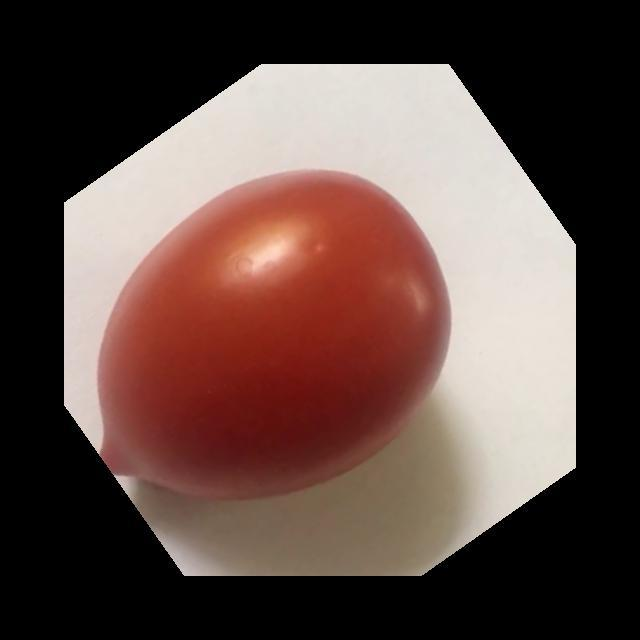tomato: (90, 160, 456, 515)
